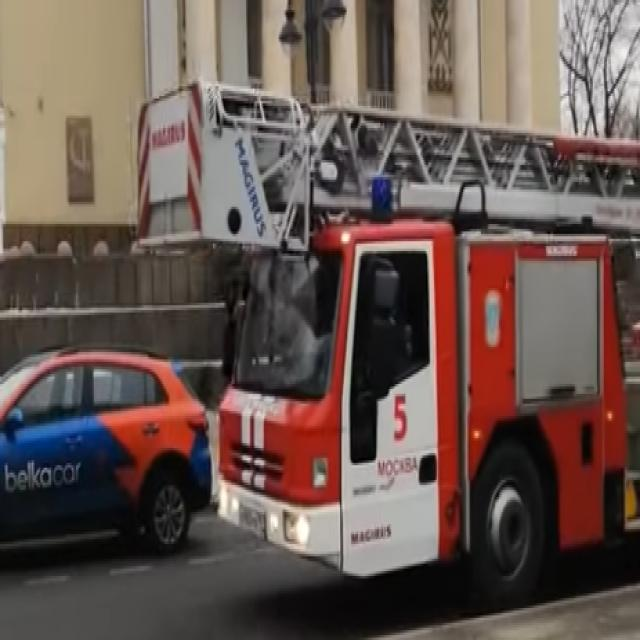fire fighting vehicle: (135, 85, 640, 614)
non emergency car: (2, 339, 216, 570)
